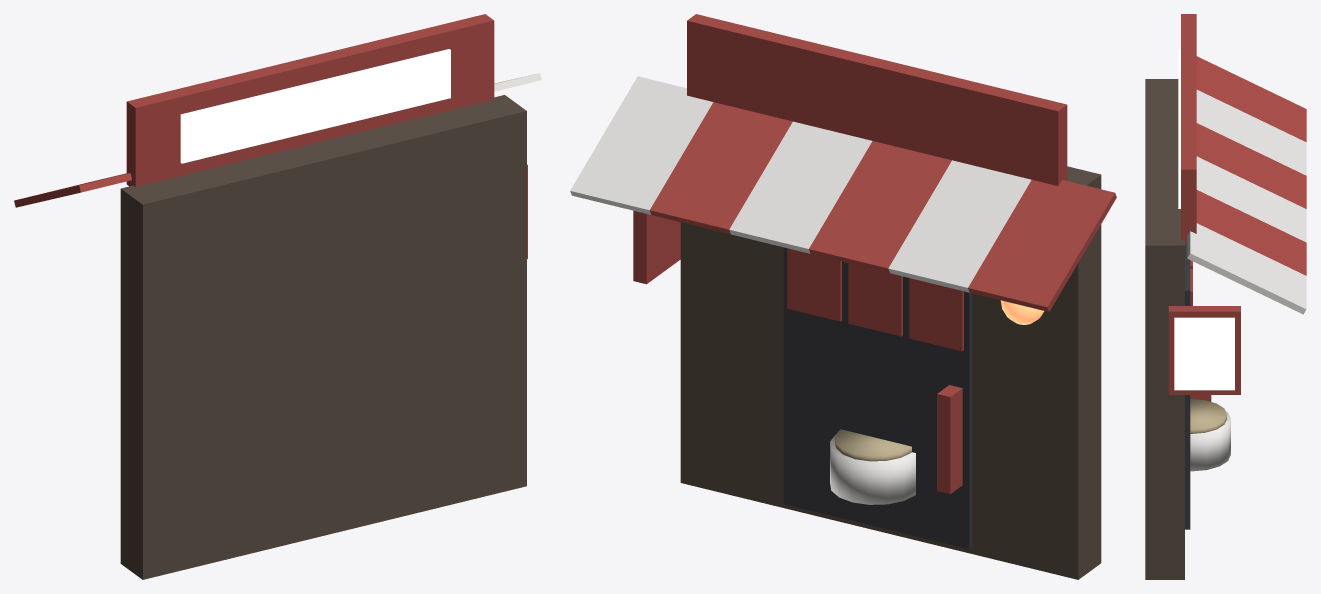
Rendered from prop_mise_izakaya.glb.
The picture shows the model from 3 angles, left to right: view 1: azimuth 30°, elevation 25°; view 2: azimuth 150°, elevation 25°; view 3: azimuth 270°, elevation 25°; orthographic projection. The views are drawn at different scales.
Visible parts, largest first — view 1: mise_izakaya; view 2: mise_izakaya; view 3: mise_izakaya.
Boxes of the visible parts, box(x1,y1,x2,y2) form: mise_izakaya: box(14, 14, 541, 579); mise_izakaya: box(570, 14, 1116, 579); mise_izakaya: box(1145, 14, 1306, 579).
Bounding box in the file's own units: 3.6 × 3.39 × 1.22.
